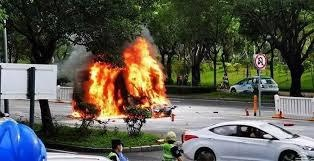fire: (74, 34, 171, 121)
